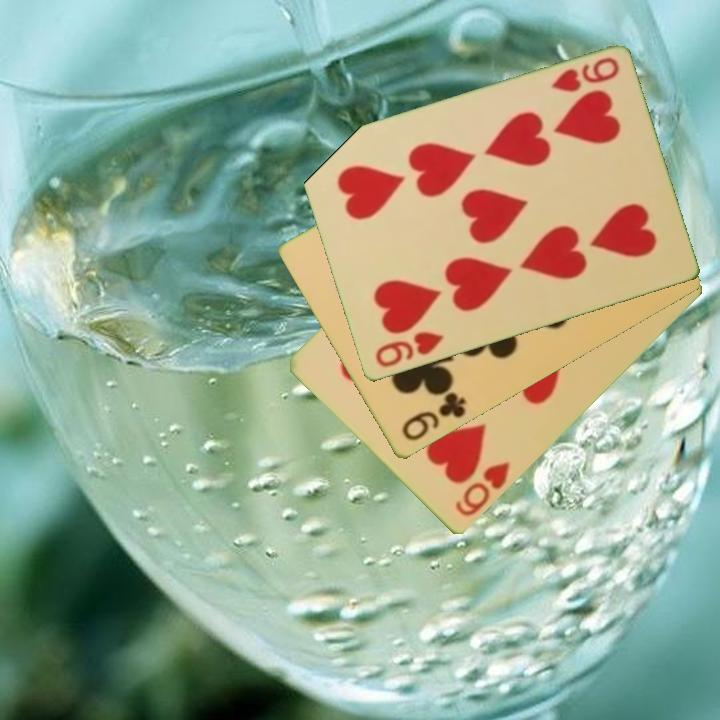6h: (452, 458, 513, 520)
9c: (398, 389, 469, 445)
9h: (371, 328, 447, 371), (547, 54, 622, 96)
